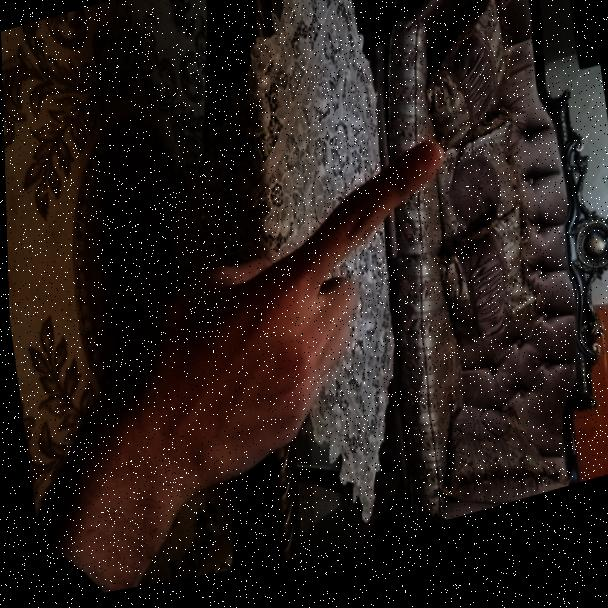one: (128, 141, 471, 497)
